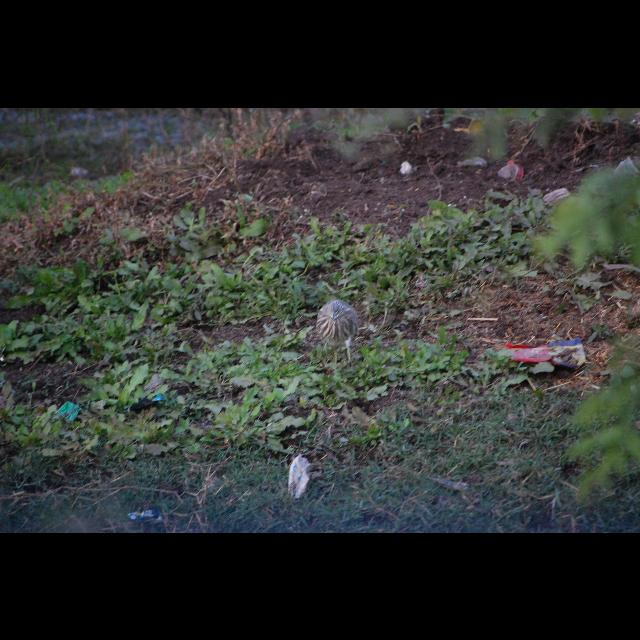heron: (312, 296, 360, 362)
